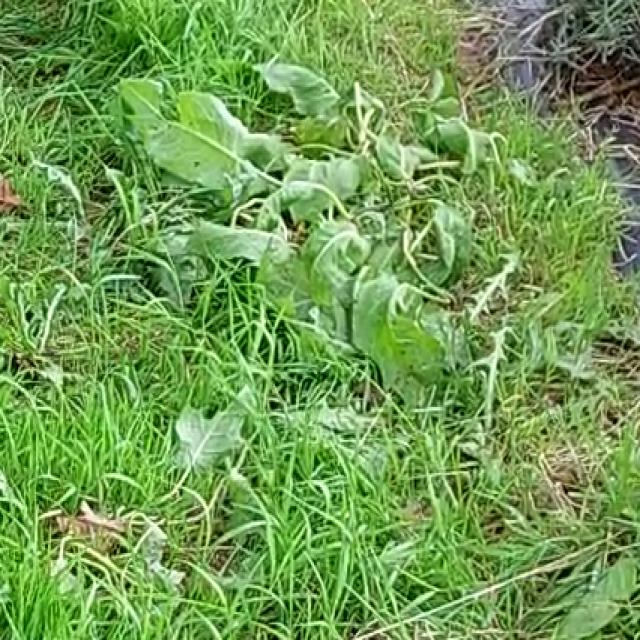organic waste: (114, 14, 470, 303), (251, 132, 481, 393)
